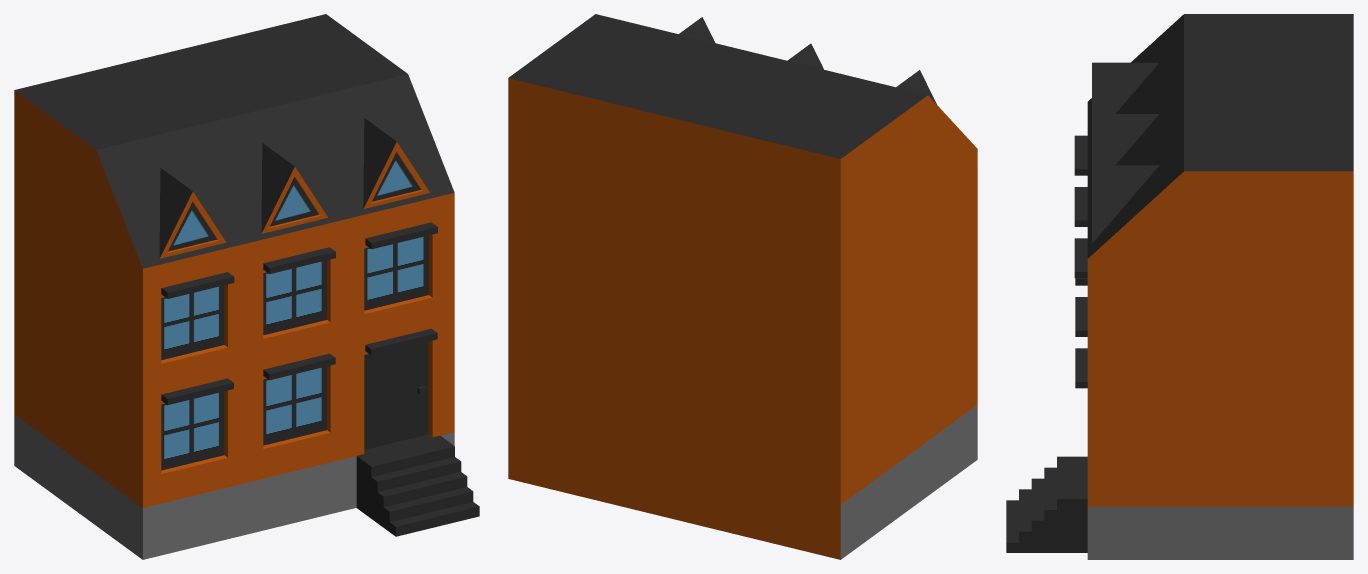
Rendered from NormalTriangleOrange.obj.
The picture shows the model from 3 angles, left to right: view 1: azimuth 30°, elevation 25°; view 2: azimuth 150°, elevation 25°; view 3: azimuth 270°, elevation 25°; orthographic projection. The views are drawn at different scales.
Visible parts, largest first — view 1: ZwyklyTrojkatnyPomaranczowy; view 2: ZwyklyTrojkatnyPomaranczowy; view 3: ZwyklyTrojkatnyPomaranczowy.
Boxes of the visible parts, x1,y1,x2,y2 form: ZwyklyTrojkatnyPomaranczowy: (14,14,479,559); ZwyklyTrojkatnyPomaranczowy: (508,14,977,559); ZwyklyTrojkatnyPomaranczowy: (1006,14,1353,559).
Size of the model in its own units: 7 by 8.07 by 6.53.
